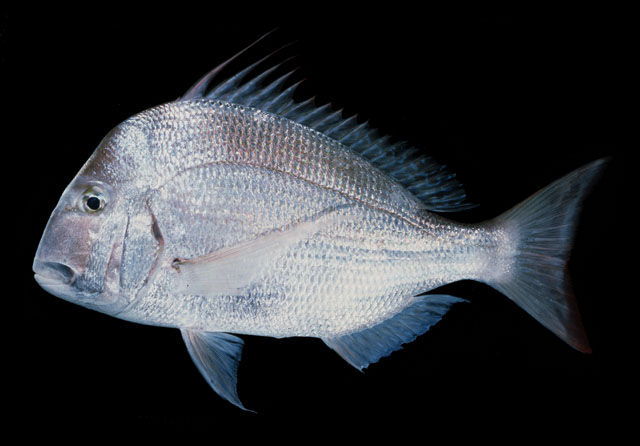fish: (34, 41, 604, 416)
